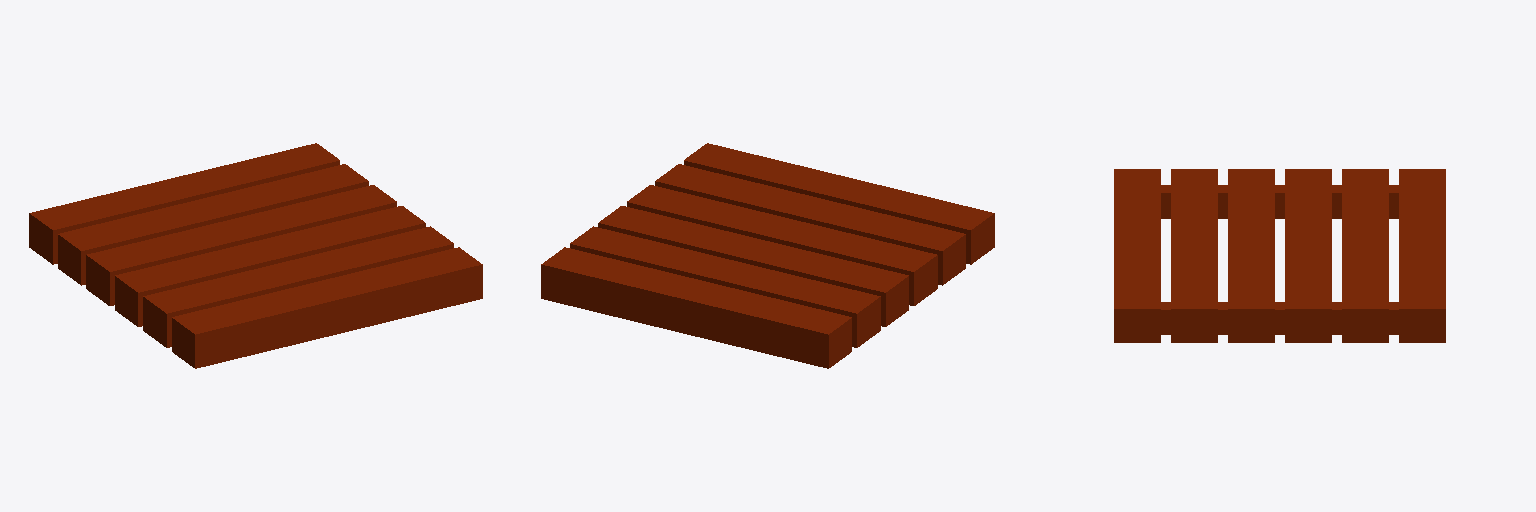
3 renders of one model, left to right at view 1: azimuth 30°, elevation 25°; view 2: azimuth 150°, elevation 25°; view 3: azimuth 270°, elevation 25°, orthographic.
Visible parts, largest first — view 1: chao; view 2: chao; view 3: chao.
Part boxes in pixels (x1,y1,x2,y2): chao: (29,143,482,368); chao: (541,143,994,368); chao: (1114,169,1445,342).
Size of the model in its own units: 35 by 4 by 35.
1 materials, 1 textured.